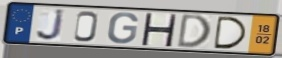0: (73, 10, 100, 43)
D: (175, 12, 213, 49), (213, 15, 250, 50)
G: (106, 11, 140, 45)
H: (139, 12, 179, 48)
J: (34, 8, 66, 42)
